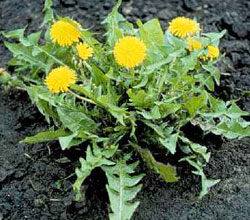dandelion: (45, 18, 83, 44), (165, 13, 201, 40), (40, 65, 75, 92), (115, 35, 143, 66), (79, 46, 92, 56)
